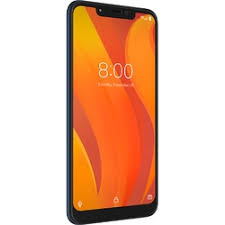vsmart: (62, 1, 160, 225)
